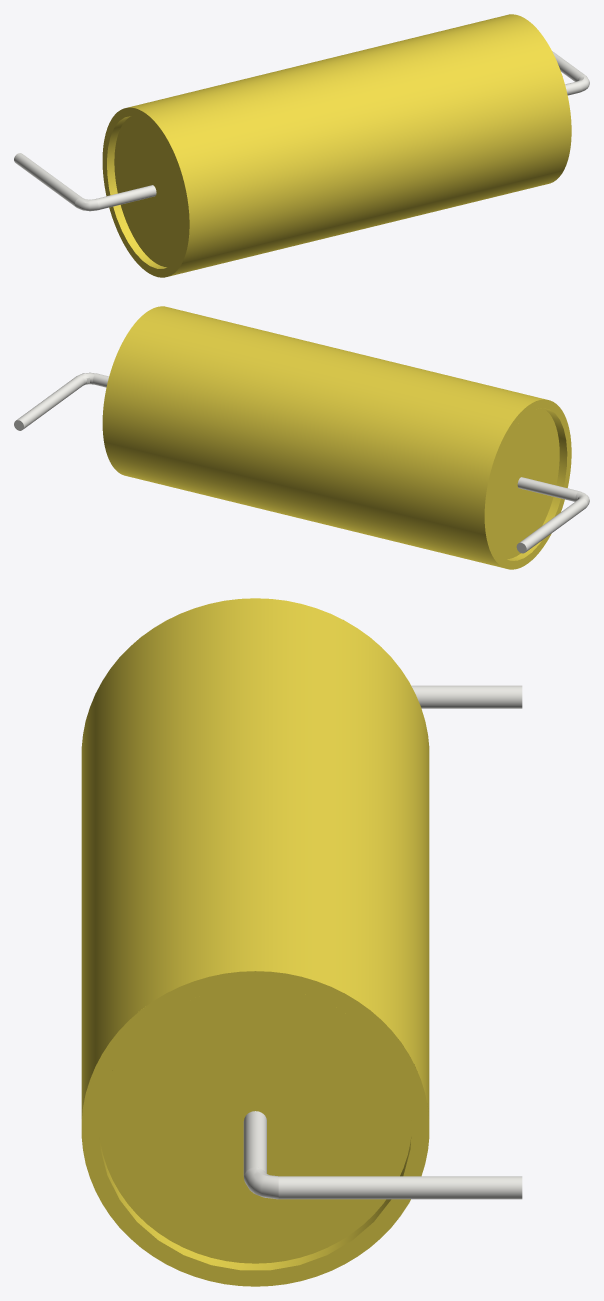
File: C_Axial_L19.0mm_D7.5mm_P25.00mm_Horizontal.glb
3 renders of one model, top to bottom at view 1: azimuth 30°, elevation 25°; view 2: azimuth 150°, elevation 25°; view 3: azimuth 270°, elevation 25°, orthographic. The views are drawn at different scales.
Parts seen in each view (by area): view 1: Shape_IndexedFaceSet, Shape_IndexedFaceSet.005, Shape_IndexedFaceSet.001, Shape_IndexedFaceSet.003, Shape_IndexedFaceSet.010, Shape_IndexedFaceSet.008, Shape_IndexedFaceSet.012; view 2: Shape_IndexedFaceSet, Shape_IndexedFaceSet.005, Shape_IndexedFaceSet.001, Shape_IndexedFaceSet.003, Shape_IndexedFaceSet.008, Shape_IndexedFaceSet.012, Shape_IndexedFaceSet.010; view 3: Shape_IndexedFaceSet, Shape_IndexedFaceSet.006, Shape_IndexedFaceSet.002, Shape_IndexedFaceSet.012, Shape_IndexedFaceSet.008, Shape_IndexedFaceSet.004, Shape_IndexedFaceSet.010.
Boxes of the visible parts, <box> form: Shape_IndexedFaceSet: <box>128,14,571,276</box>; Shape_IndexedFaceSet.005: <box>114,116,185,267</box>; Shape_IndexedFaceSet.001: <box>102,107,189,277</box>; Shape_IndexedFaceSet.003: <box>107,116,166,268</box>; Shape_IndexedFaceSet.010: <box>95,81,581,210</box>; Shape_IndexedFaceSet.008: <box>14,153,82,206</box>; Shape_IndexedFaceSet.012: <box>552,51,584,81</box>; Shape_IndexedFaceSet: <box>102,306,545,568</box>; Shape_IndexedFaceSet.005: <box>489,408,559,559</box>; Shape_IndexedFaceSet.001: <box>484,399,571,569</box>; Shape_IndexedFaceSet.003: <box>507,408,567,560</box>; Shape_IndexedFaceSet.008: <box>519,498,587,552</box>; Shape_IndexedFaceSet.012: <box>16,375,84,429</box>; Shape_IndexedFaceSet.010: <box>93,373,578,501</box>; Shape_IndexedFaceSet: <box>81,598,429,1118</box>; Shape_IndexedFaceSet.006: <box>99,987,411,1263</box>; Shape_IndexedFaceSet.002: <box>81,971,429,1286</box>; Shape_IndexedFaceSet.012: <box>278,1176,522,1199</box>; Shape_IndexedFaceSet.008: <box>411,685,522,708</box>; Shape_IndexedFaceSet.004: <box>99,1137,411,1270</box>; Shape_IndexedFaceSet.010: <box>243,1111,266,1176</box>.
Size of the model in its own units: 10.04 by 2.95 by 3.74.
